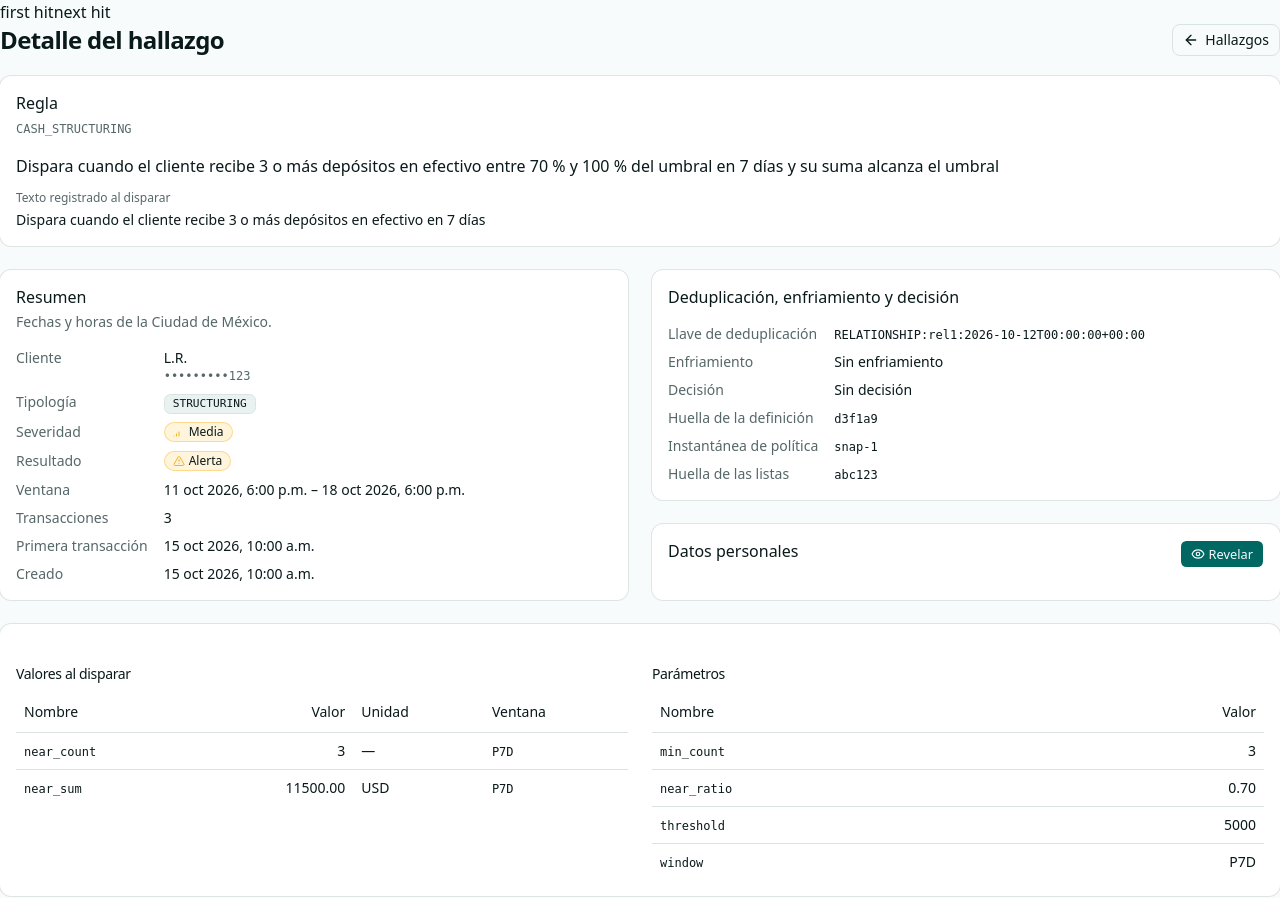
Scenario: HitPage › drops the reveal when another hit opens
Check: the text "Dispara cuando el cliente recibe 3 o más depósitos en efectivo entre 70 % y 100 % del umbral en 7 días y su suma alcanza" is shown, box [16,155,999,177]
Click the link "next hit". click: click(82, 12)
box: [54,1,110,23]
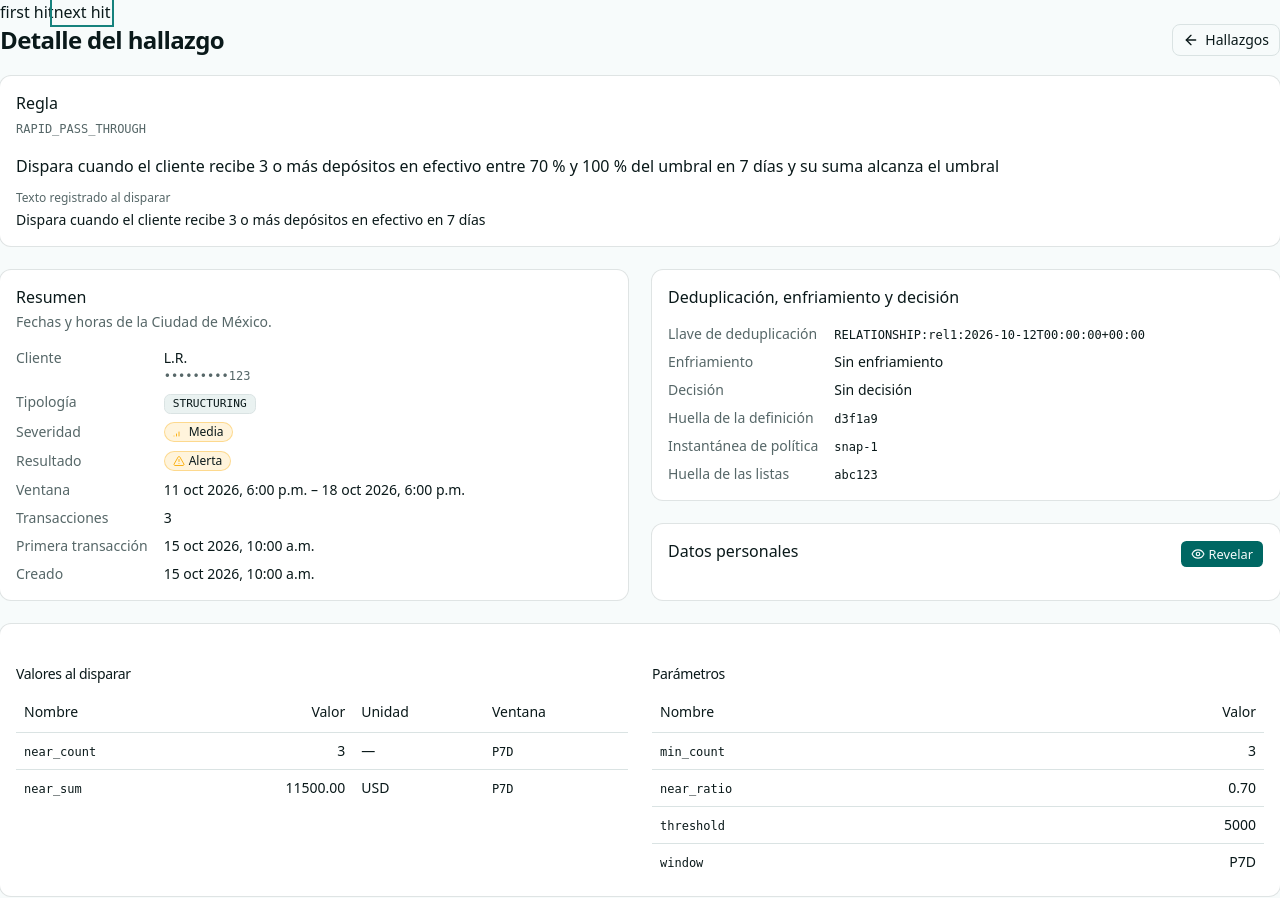
Check: the text "RAPID_PASS_THROUGH" is shown, box [16,122,146,136]
Click the link "first hit". click: click(27, 12)
box: [0,1,54,23]
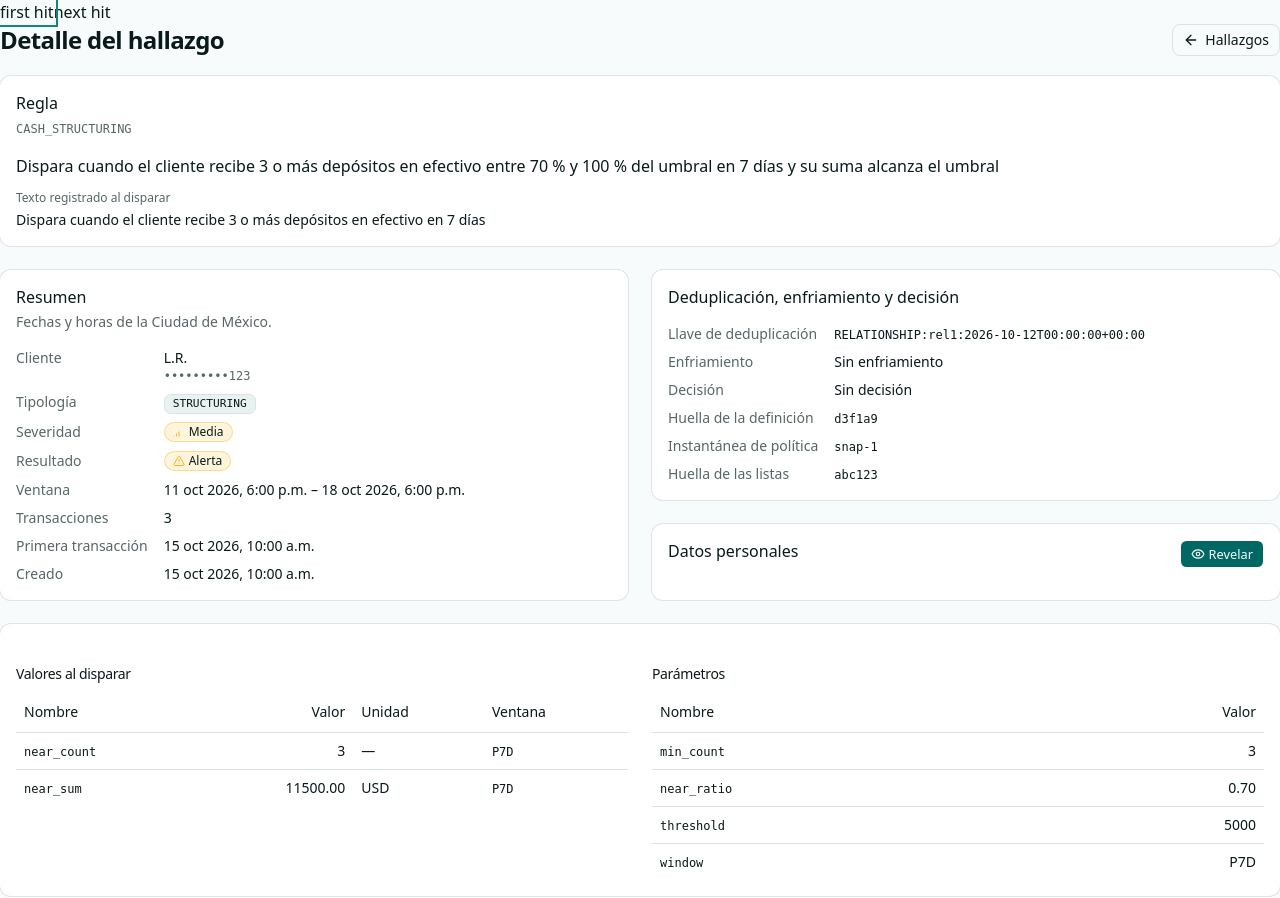
Check: the text "CASH_STRUCTURING" is shown, box [16,122,132,136]
Click the button "Revelar". click: click(1222, 554)
box: [1180,540,1264,568]
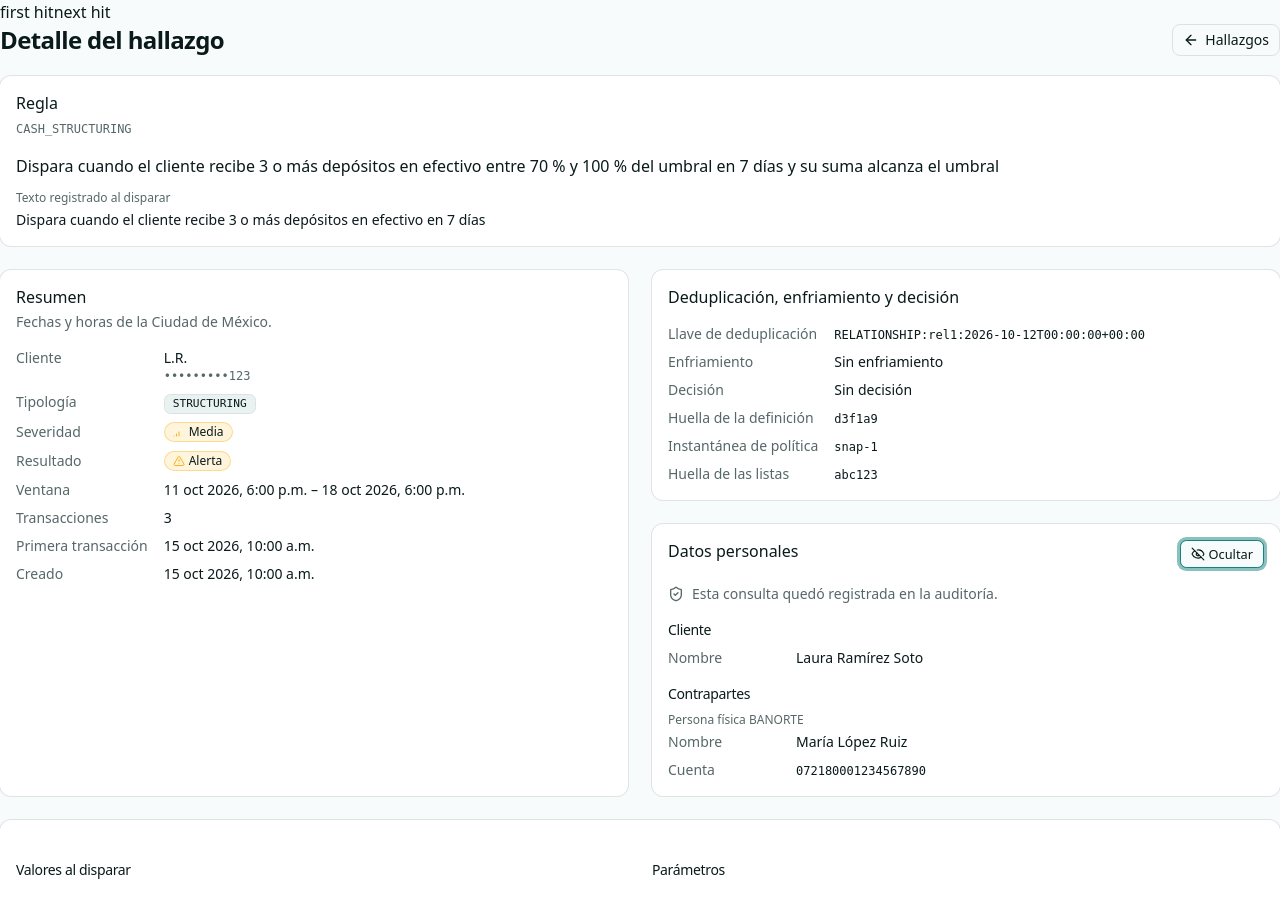
Check: the text "María López Ruiz" is shown, box [796,732,907,751]
Click the link "next hit". click: click(82, 12)
box: [54,1,110,23]
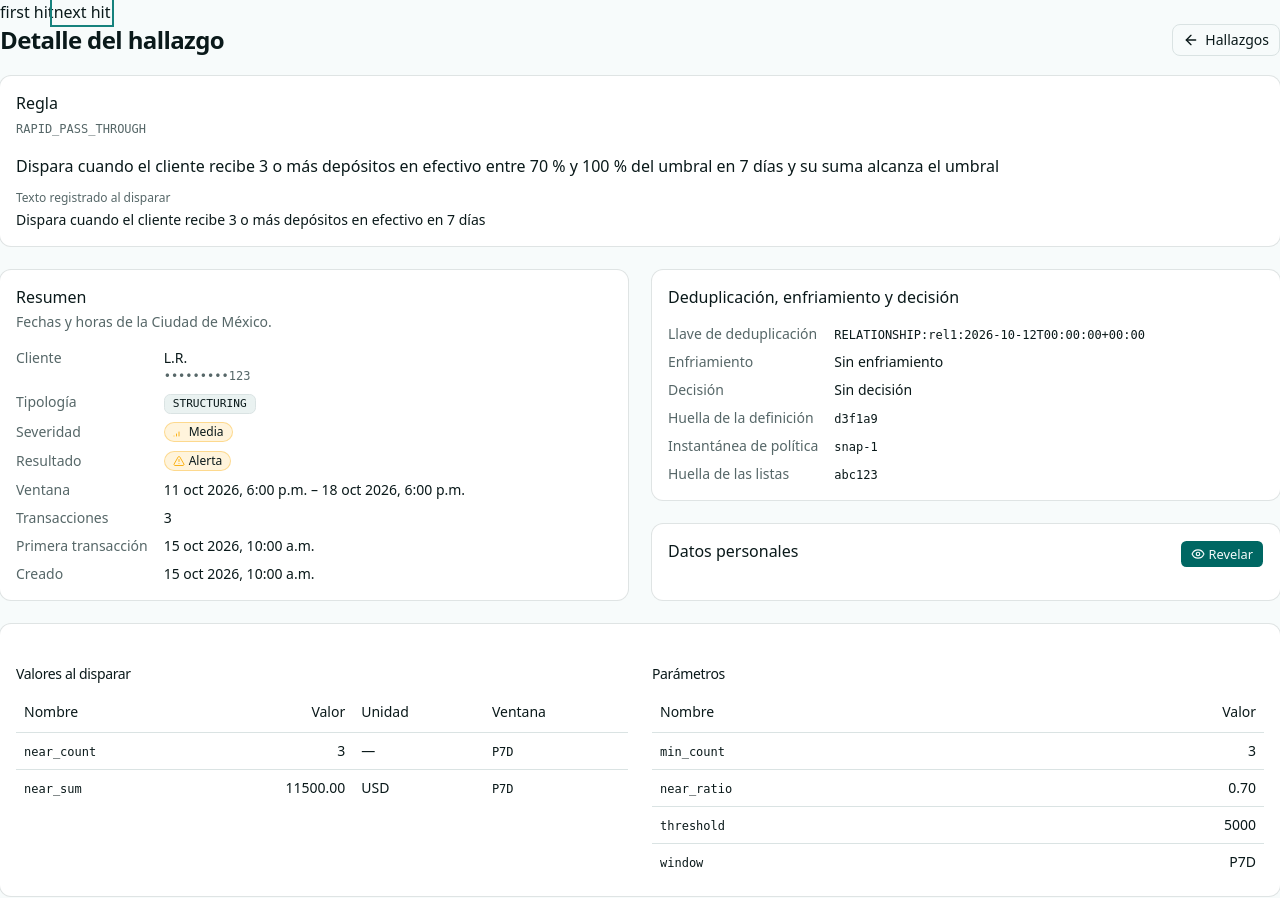
Check: the text "RAPID_PASS_THROUGH" is shown, box [16,122,146,136]
Check: the text "María López Ruiz" is gone
Check: the button "Revelar" is shown, box [1180,540,1264,568]
